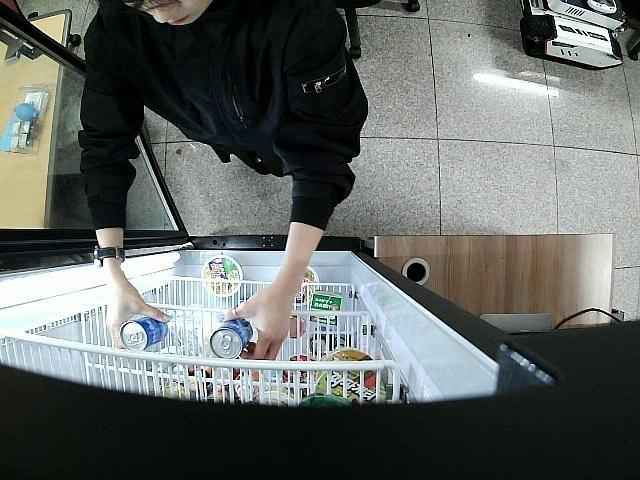15_letsbe: (120, 316, 168, 351), (212, 319, 252, 360)
